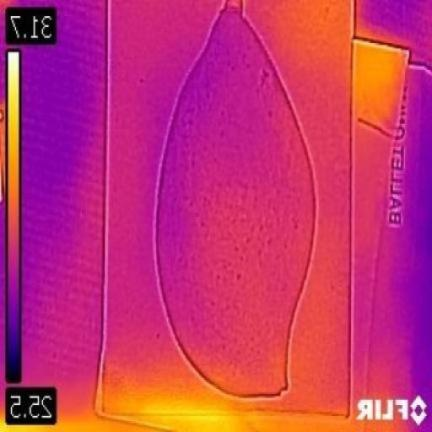mango: (156, 2, 315, 398)
